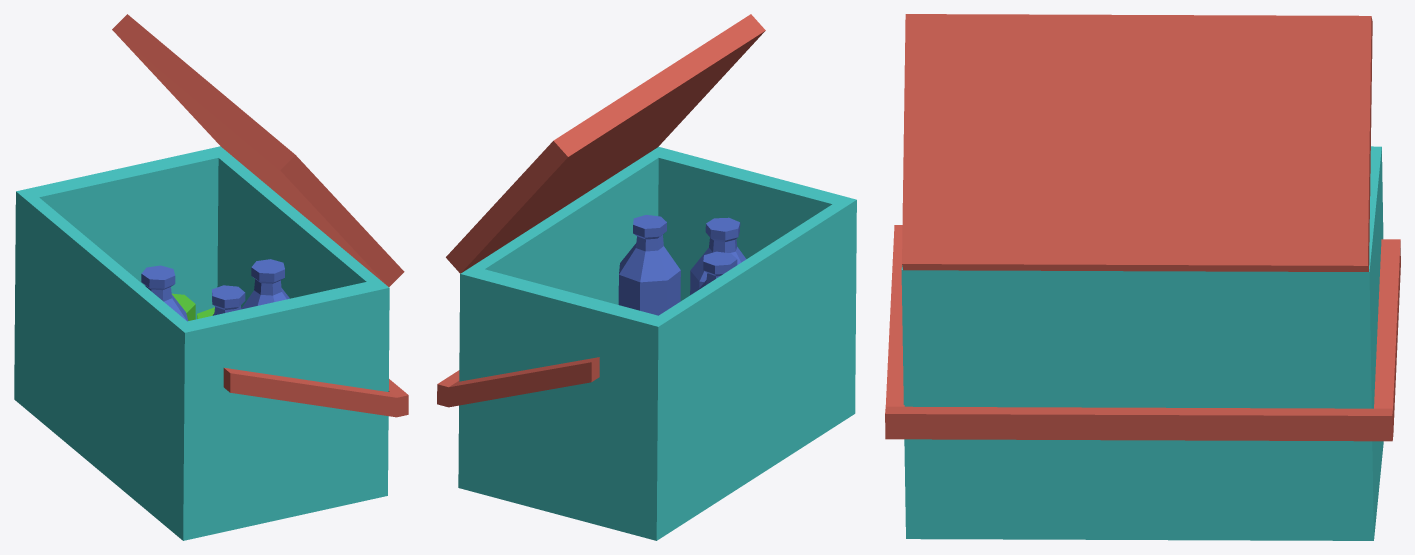
The model's file is Hielera.fbx.
3 renders of one model, left to right at view 1: azimuth 30°, elevation 25°; view 2: azimuth 150°, elevation 25°; view 3: azimuth 270°, elevation 25°, orthographic. The views are drawn at different scales.
Visible parts, largest first — view 1: FRIDGE; view 2: FRIDGE; view 3: FRIDGE.
Boxes of the visible parts, x1,y1,x2,y2 form: FRIDGE: (14, 14, 408, 540); FRIDGE: (437, 14, 856, 540); FRIDGE: (885, 14, 1400, 540).
Size of the model in its own units: 0.3372 by 0.5208 by 0.5144.
